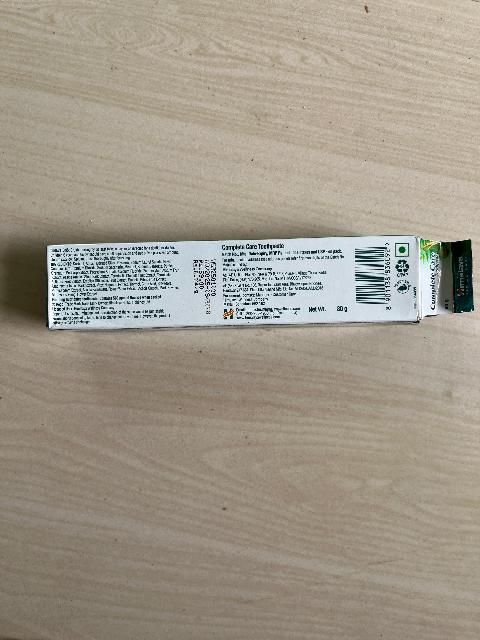himalaya toothpaste: (46, 242, 476, 329)
